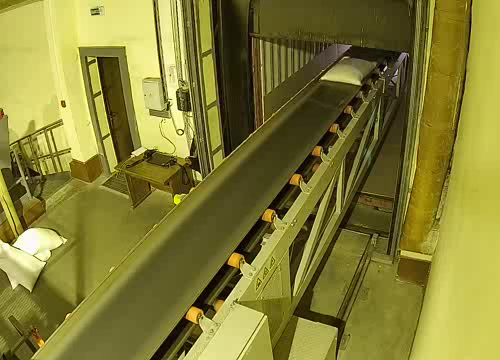bag: (317, 55, 381, 87)
